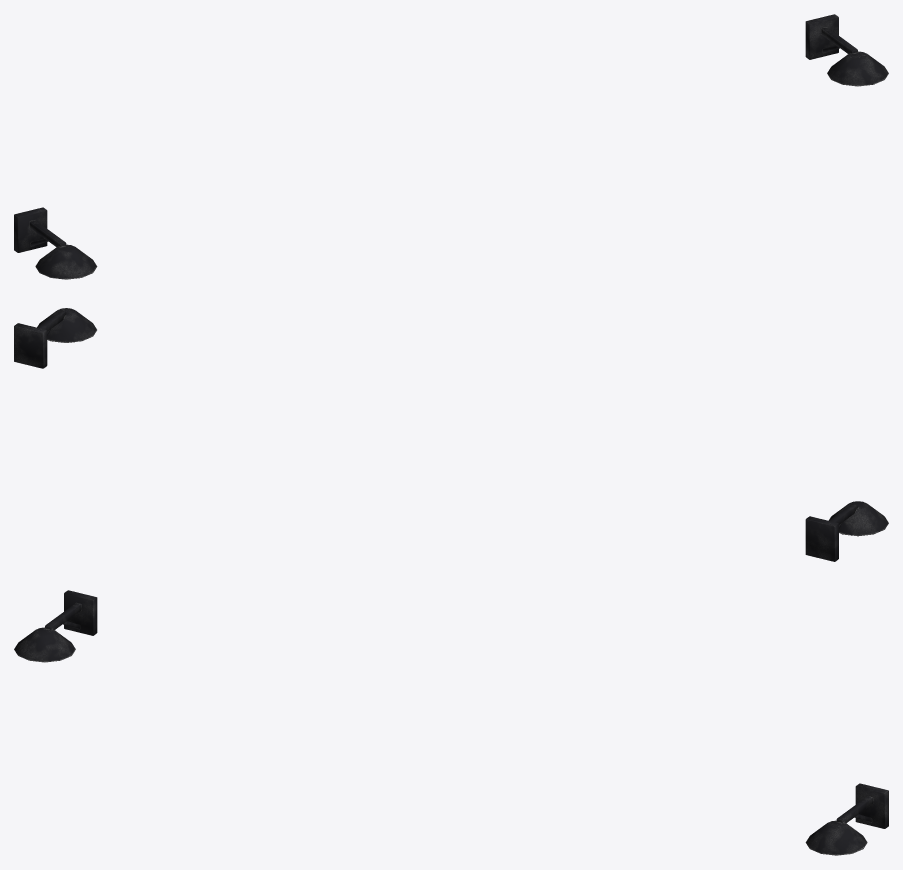
Rendered from Albatros_Equipos.fbx.
3 renders of one model, top to bottom at view 1: azimuth 30°, elevation 25°; view 2: azimuth 150°, elevation 25°; view 3: azimuth 330°, elevation 25°, orthographic.
Visible parts, largest first — view 1: Albatros_Equipos; view 2: Albatros_Equipos; view 3: Albatros_Equipos.
Part boxes in pixels (<box>): Albatros_Equipos: <box>14,14,888,279</box>; Albatros_Equipos: <box>14,308,888,561</box>; Albatros_Equipos: <box>14,590,888,855</box>.
Size of the model in its own units: 34.17 by 1.4 by 3.73.
